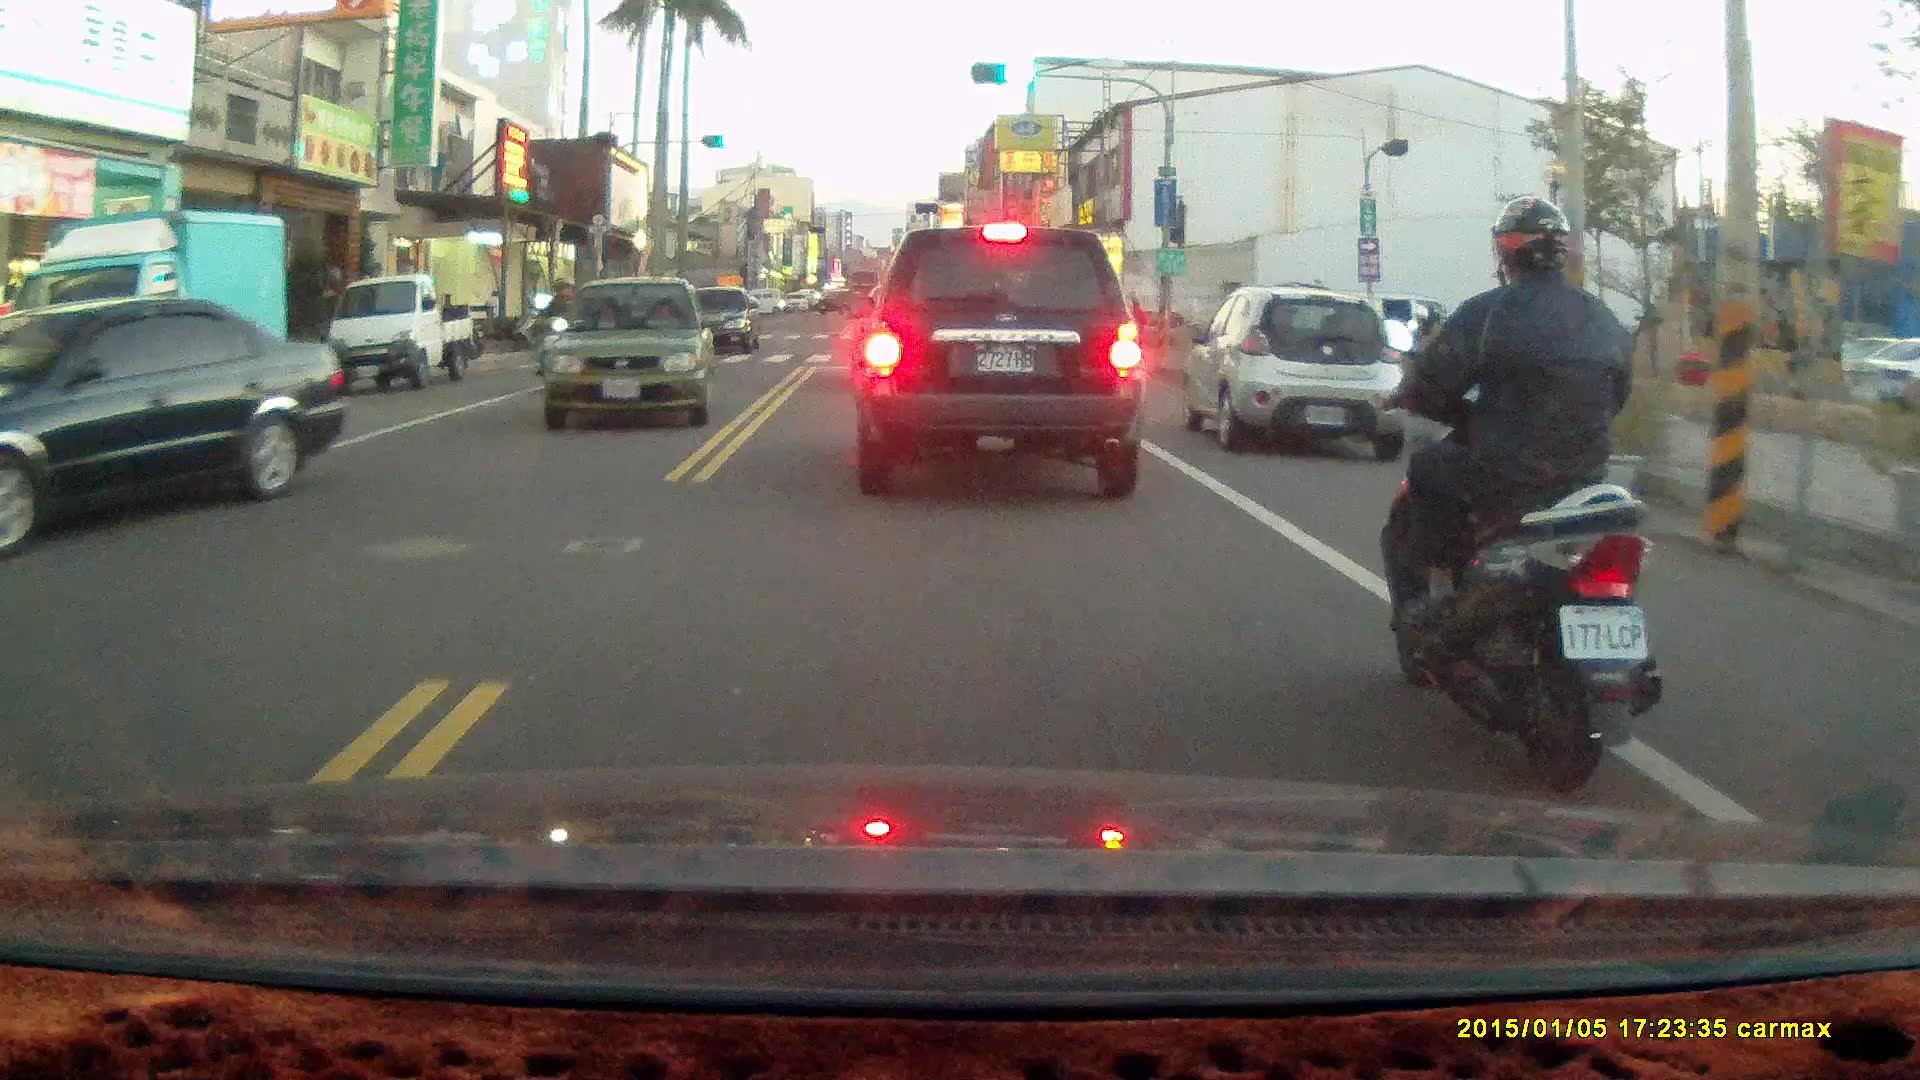rider: (1376, 196, 1665, 795), (529, 279, 580, 370)
vehicle: (1, 294, 353, 559), (852, 222, 1146, 499), (33, 206, 288, 428), (1186, 286, 1412, 455), (537, 271, 715, 428), (318, 268, 476, 388)
